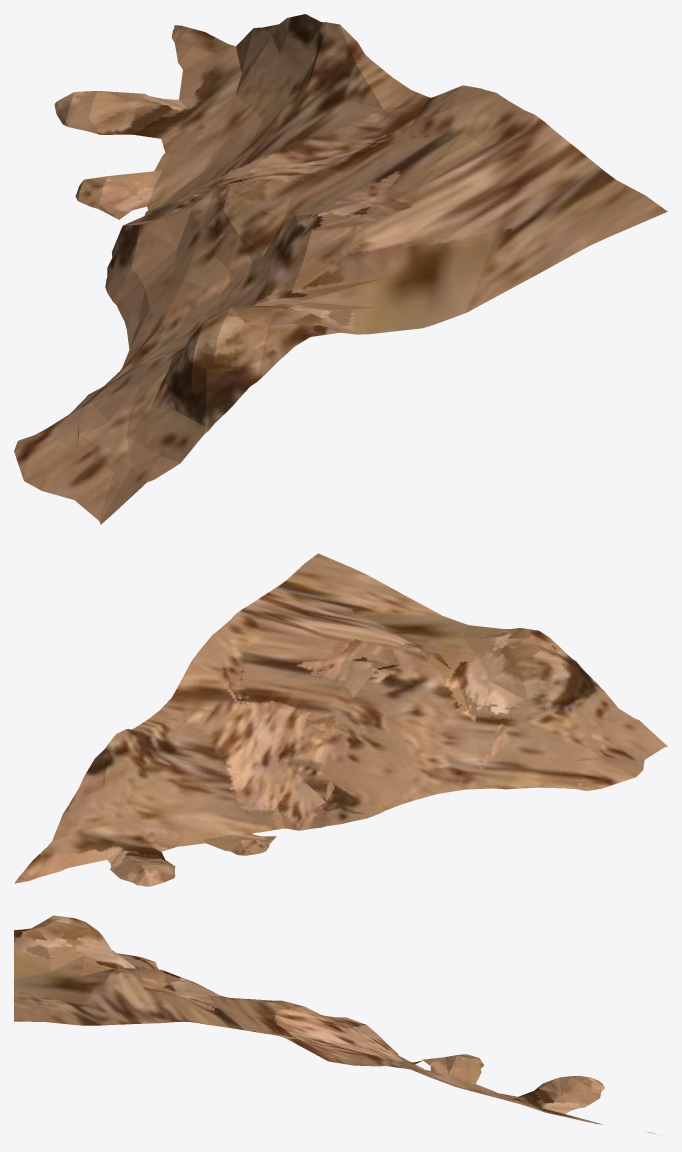
The picture shows the model from 3 angles, top to bottom: view 1: azimuth 30°, elevation 25°; view 2: azimuth 150°, elevation 25°; view 3: azimuth 270°, elevation 25°; orthographic projection. The views are drawn at different scales.
Size of the model in its own units: 0.4056 by 0.1169 by 0.5981.
1 material, 1 textured.
